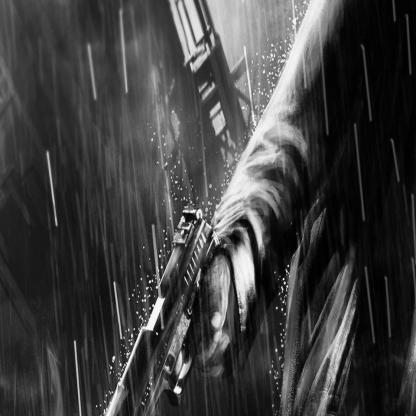gun: (69, 204, 223, 415)
